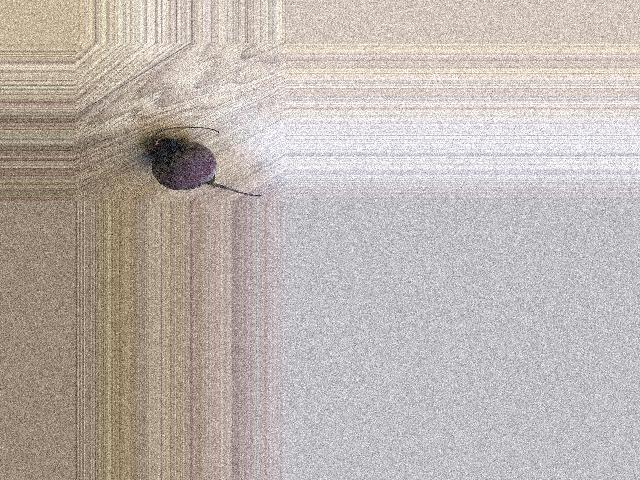beet: (148, 127, 262, 196)
